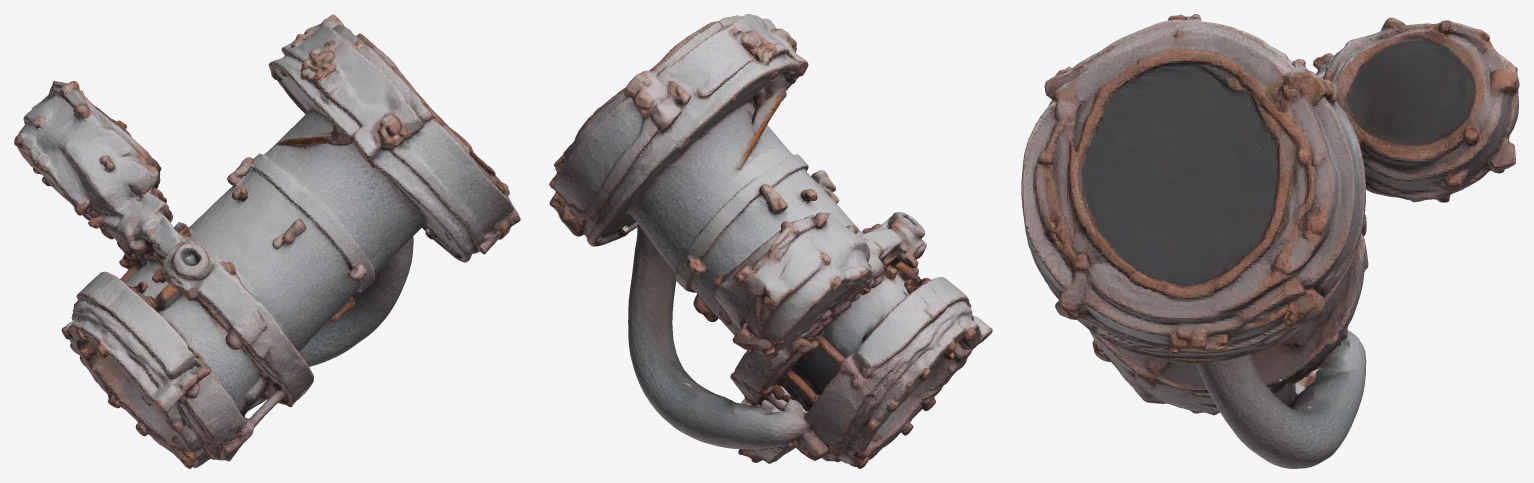
Rendered from wing (32).glb.
The picture shows the model from 3 angles, left to right: view 1: azimuth 30°, elevation 25°; view 2: azimuth 150°, elevation 25°; view 3: azimuth 270°, elevation 25°; orthographic projection. The views are drawn at different scales.
Visible parts, largest first — view 1: Hy21_Mesh.obj; view 2: Hy21_Mesh.obj; view 3: Hy21_Mesh.obj.
Boxes of the visible parts, <box> form: Hy21_Mesh.obj: <box>14,14,520,468</box>; Hy21_Mesh.obj: <box>549,14,992,468</box>; Hy21_Mesh.obj: <box>1021,14,1519,468</box>.
Size of the model in its own units: 1.95 by 1.83 by 1.73.
Materials: 1 (1 with a texture image).
